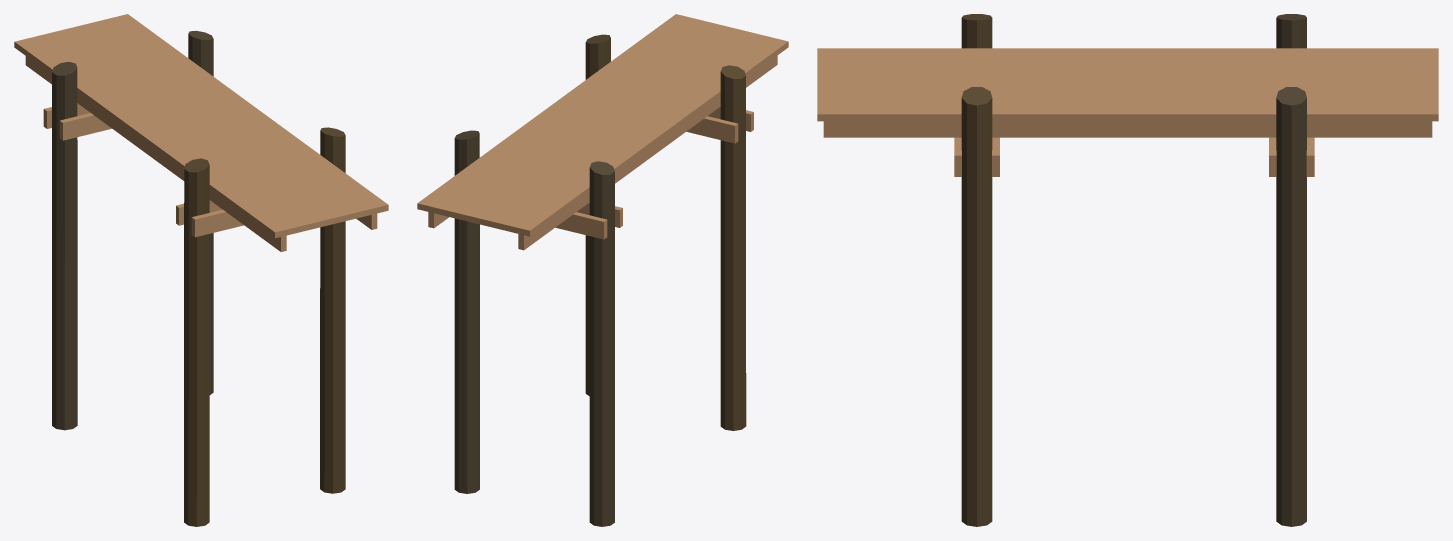
File: Dock_2.fbx
3 views of the same model, side by side, from view 1: azimuth 30°, elevation 25°; view 2: azimuth 150°, elevation 25°; view 3: azimuth 270°, elevation 25° (orthographic). The views are drawn at different scales.
Parts seen in each view (by area): view 1: polySurface15, polySurface10, polySurface3, polySurface6, polySurface16, polySurface13, polySurface18, polySurface20; view 2: polySurface15, polySurface3, polySurface10, polySurface13, polySurface16, polySurface6, polySurface21, polySurface19; view 3: polySurface15, polySurface6, polySurface13, polySurface17, polySurface3, polySurface10.
Part boxes in pixels (box(x1,y1,x2,y2)): polySurface15: box(14, 14, 388, 238); polySurface10: box(52, 61, 77, 430); polySurface3: box(184, 158, 209, 526); polySurface6: box(320, 127, 345, 493); polySurface16: box(25, 56, 286, 251); polySurface13: box(188, 30, 213, 394); polySurface18: box(191, 209, 243, 237); polySurface20: box(59, 113, 111, 140); polySurface15: box(417, 14, 788, 236); polySurface3: box(720, 65, 746, 430); polySurface10: box(589, 161, 614, 526); polySurface13: box(454, 130, 479, 493); polySurface16: box(518, 55, 777, 250); polySurface6: box(585, 34, 610, 396); polySurface21: box(555, 212, 607, 239); polySurface19: box(686, 116, 738, 143); polySurface15: box(817, 48, 1438, 121); polySurface6: box(961, 87, 992, 526); polySurface13: box(1276, 87, 1306, 526); polySurface17: box(823, 121, 1432, 137); polySurface3: box(961, 14, 992, 48); polySurface10: box(1276, 14, 1306, 48).
Size of the model in its own units: 3.5 by 7.56 by 9.95.
